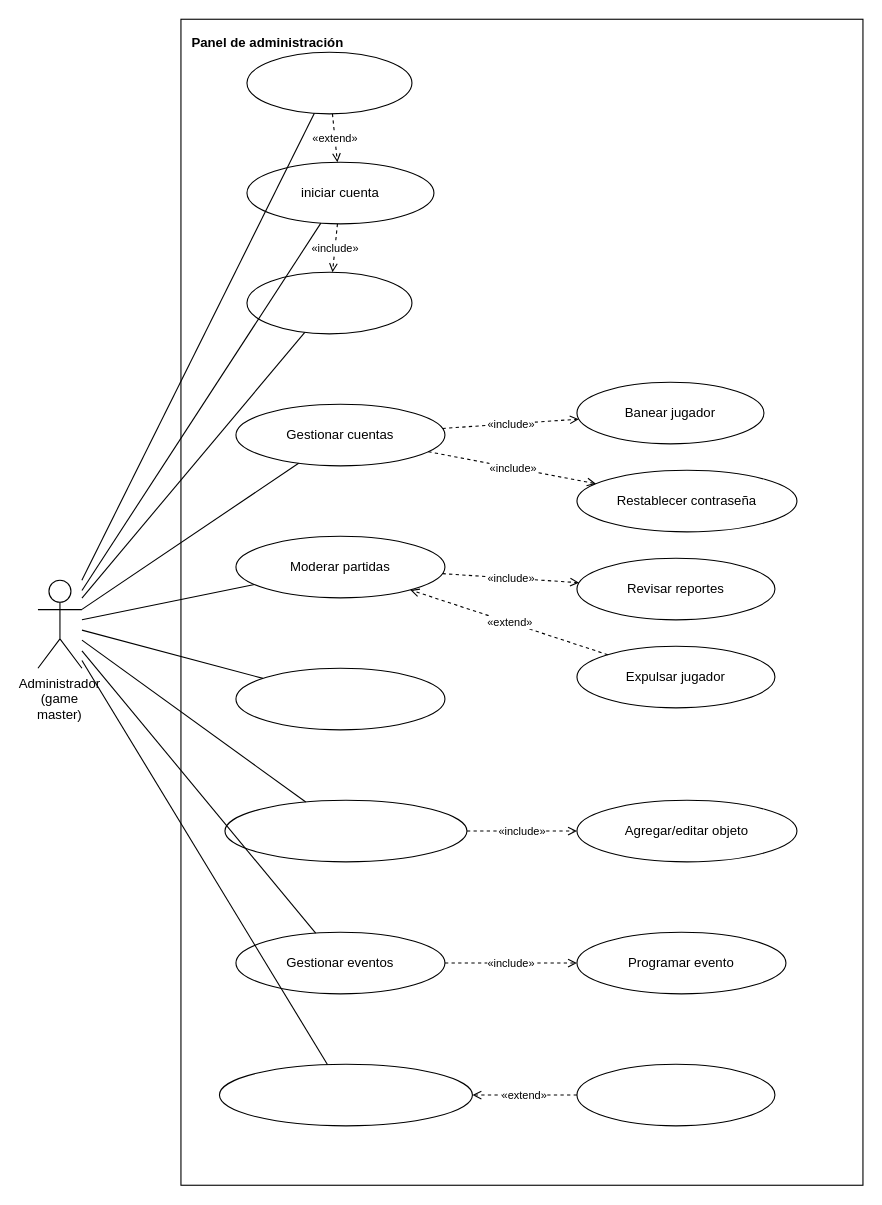
The diagram is 882 pixels wide and 1205 high, and some of its shapes have lost their labels. The centre of each missing label's shape, as x and y in pixels:
Ajustar precios: the point at 675,1094
Balancear economía del juego: the point at 345,1094
Configurar servidor: the point at 340,698
contraseña: the point at 329,302
Gestionar objetos del juego: the point at 345,830
N°_partida: the point at 329,82
